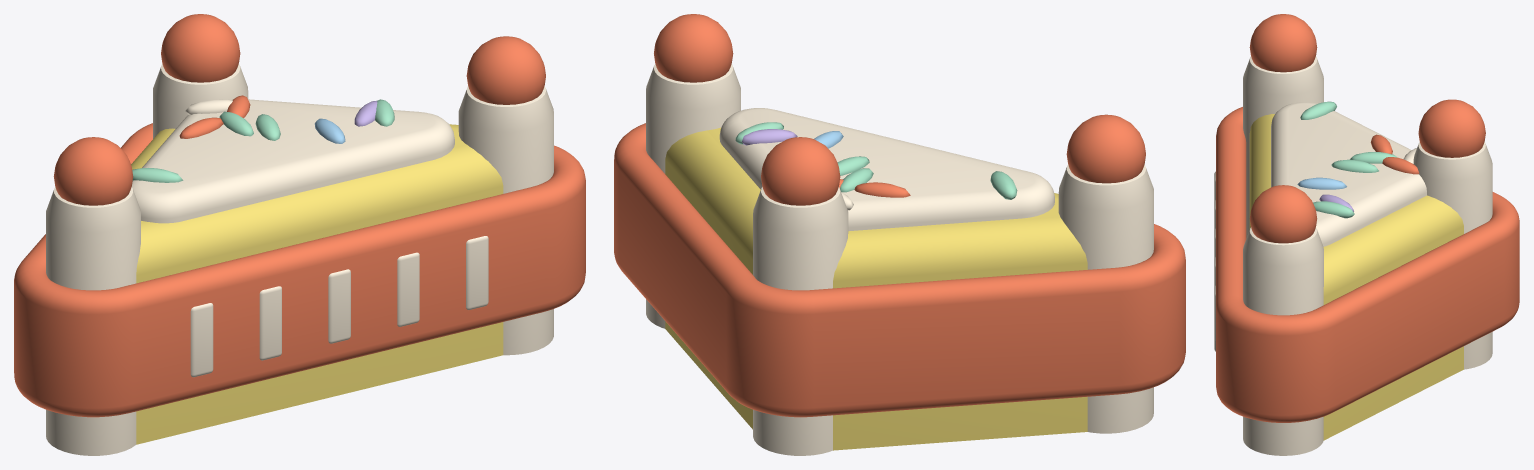
Rendered from slingshot.glb.
3 renders of one model, left to right at view 1: azimuth 30°, elevation 25°; view 2: azimuth 150°, elevation 25°; view 3: azimuth 270°, elevation 25°, orthographic. The views are drawn at different scales.
Visible parts, largest first — view 1: slingshot; view 2: slingshot; view 3: slingshot.
Boxes of the visible parts, x1,y1,x2,y2 form: slingshot: (14,14,585,455); slingshot: (614,14,1185,455); slingshot: (1214,14,1519,455).
Size of the model in its own units: 1.6 by 0.82 by 0.905.
